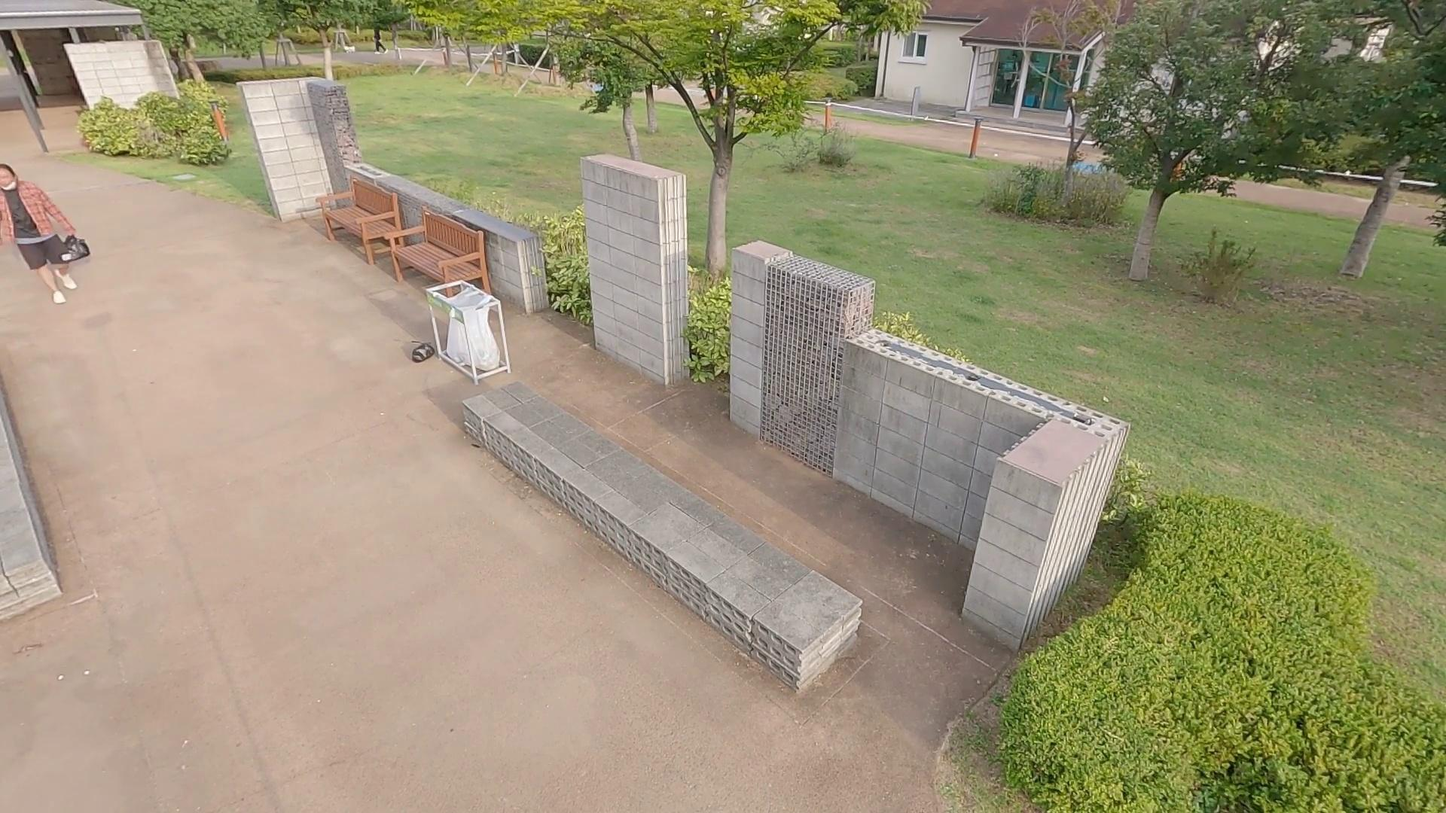person: (0, 156, 81, 308)
trash: (63, 232, 94, 266), (408, 337, 435, 366)
